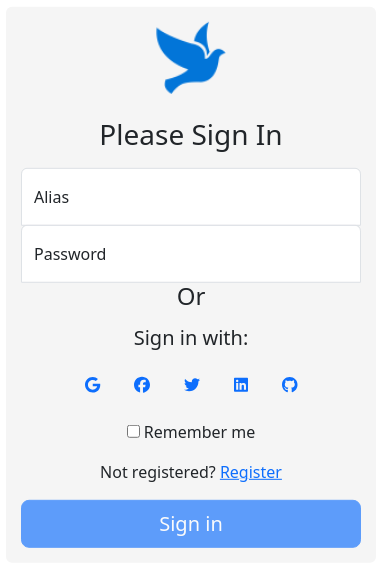
Login Component › disables sign-in button if alias and password fields are cleared
Type "a" into the field labelled "Alias" at point(191, 196), box [21, 167, 361, 225]
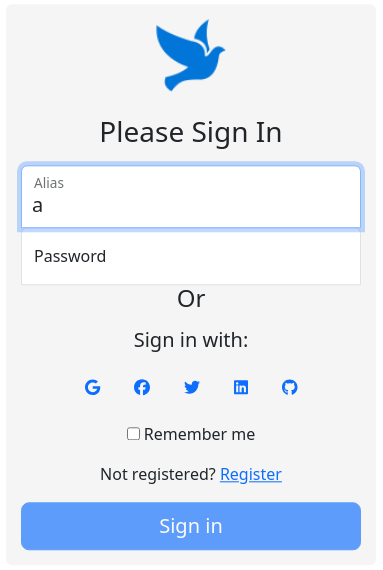
Type "b" into the password field labelled "Password" at point(191, 256), box [21, 227, 361, 285]
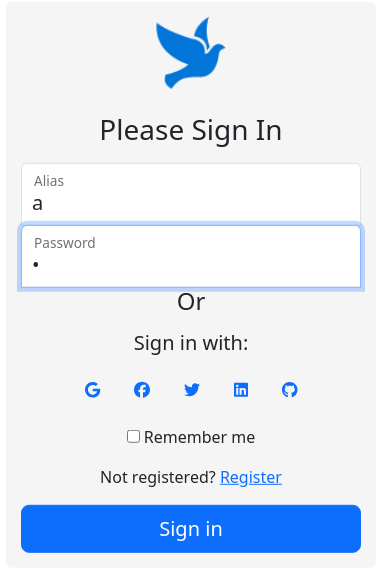
Clear the field labelled "Alias" at point(191, 194), box [21, 162, 361, 225]
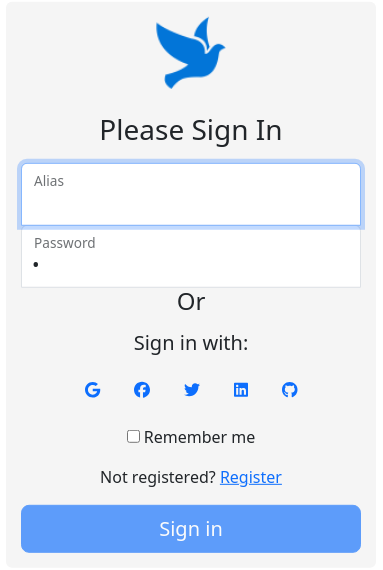
Expected: the button "Sign in" is disabled, [21, 505, 361, 553]
Type "wah" into the field labelled "Alias" at point(191, 194), box [21, 162, 361, 225]
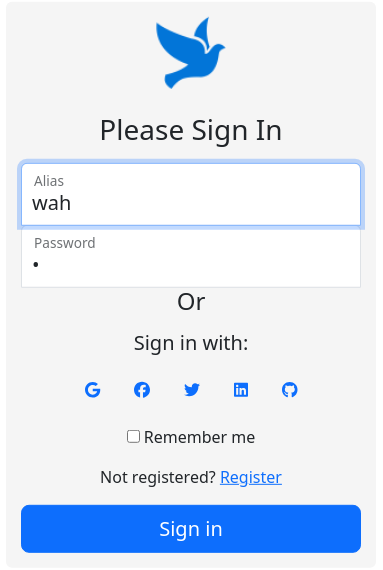
Expected: the button "Sign in" is enabled, [21, 505, 361, 553]
Clear the password field labelled "Password" at point(191, 256), box [21, 224, 361, 287]
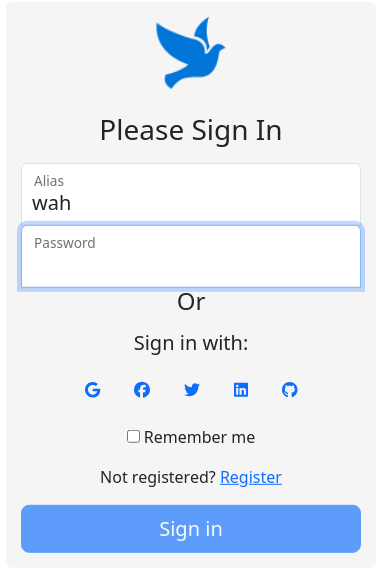
Expected: the button "Sign in" is disabled, [21, 505, 361, 553]
